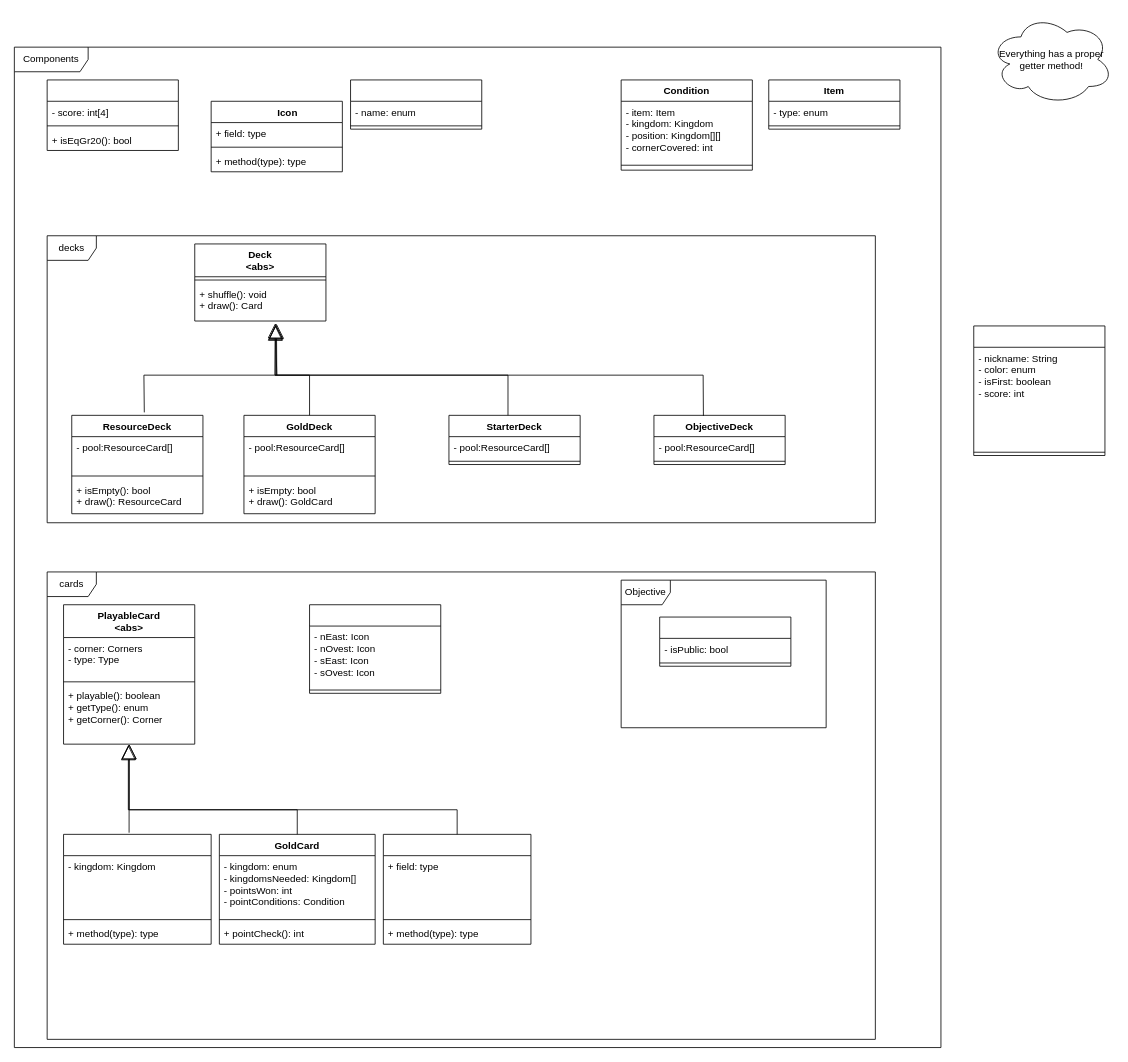
Image size: 1128x1062. Some labels were removed from this diagram. The shapes that lost their labels are listed below. From the top down, each one's box as (x1, y1, x2, y2) in pixels, then its label:
(46, 79, 178, 150): Scoretrack
(350, 79, 482, 129): Kingdom
(973, 325, 1105, 456): Player
(309, 604, 441, 693): Corner
(659, 616, 791, 666): ObjectiveCard
(63, 834, 211, 944): ResourceCard
(383, 834, 531, 944): StarterCard
